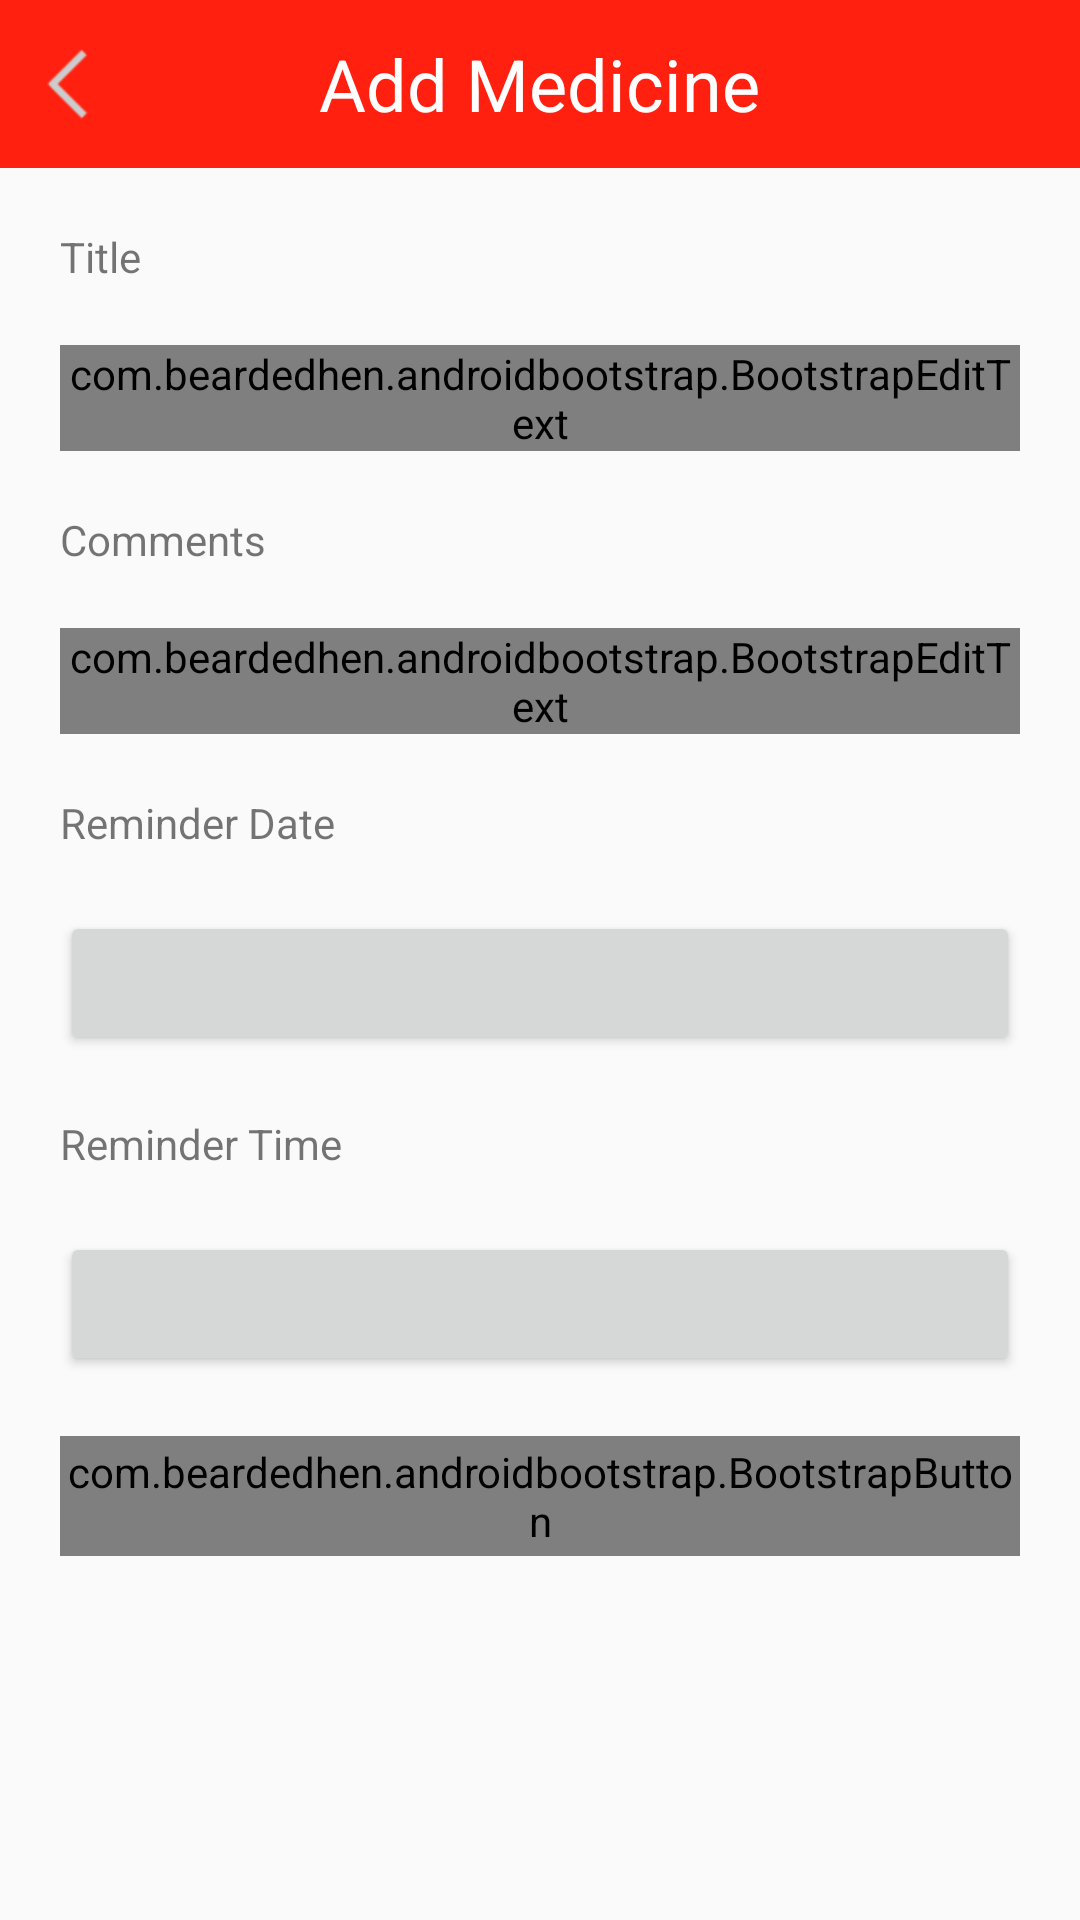

Point at icon controls on the screen. Image size 1080*1920, points as (x=x, y=y).
previous: (x=67, y=84)
